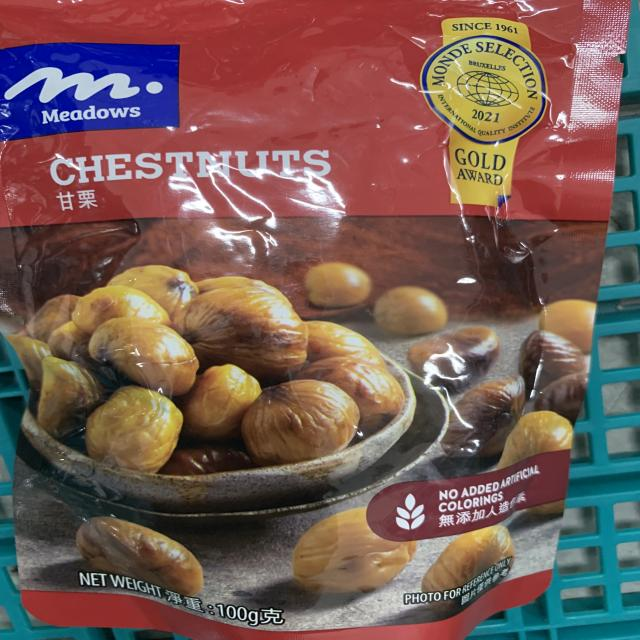object_name: (13, 3, 561, 631)
